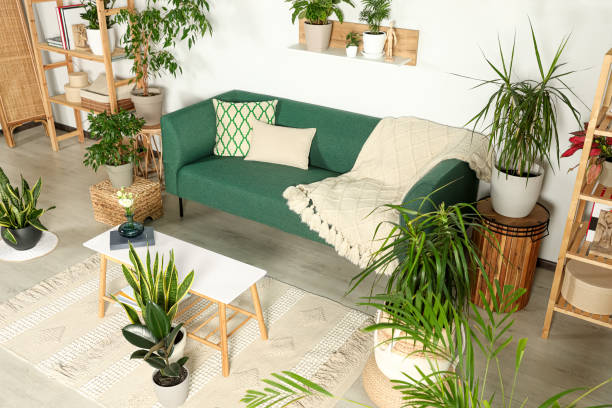large plant: (366, 201, 474, 385), (483, 27, 561, 220), (114, 10, 204, 122)
small plant: (107, 243, 196, 357), (0, 164, 57, 254), (82, 108, 147, 186), (131, 331, 195, 407), (283, 0, 341, 52), (80, 0, 114, 56), (360, 0, 392, 59), (341, 30, 361, 56)
sofa: (157, 86, 481, 278)
table: (81, 220, 272, 379)
